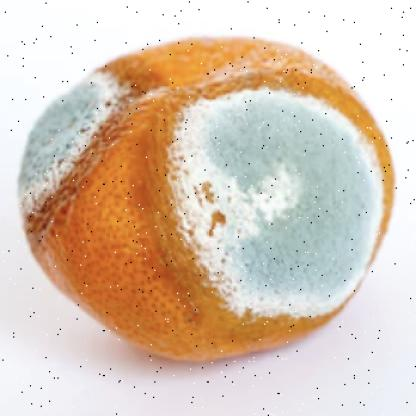rotten: (21, 36, 394, 360)
